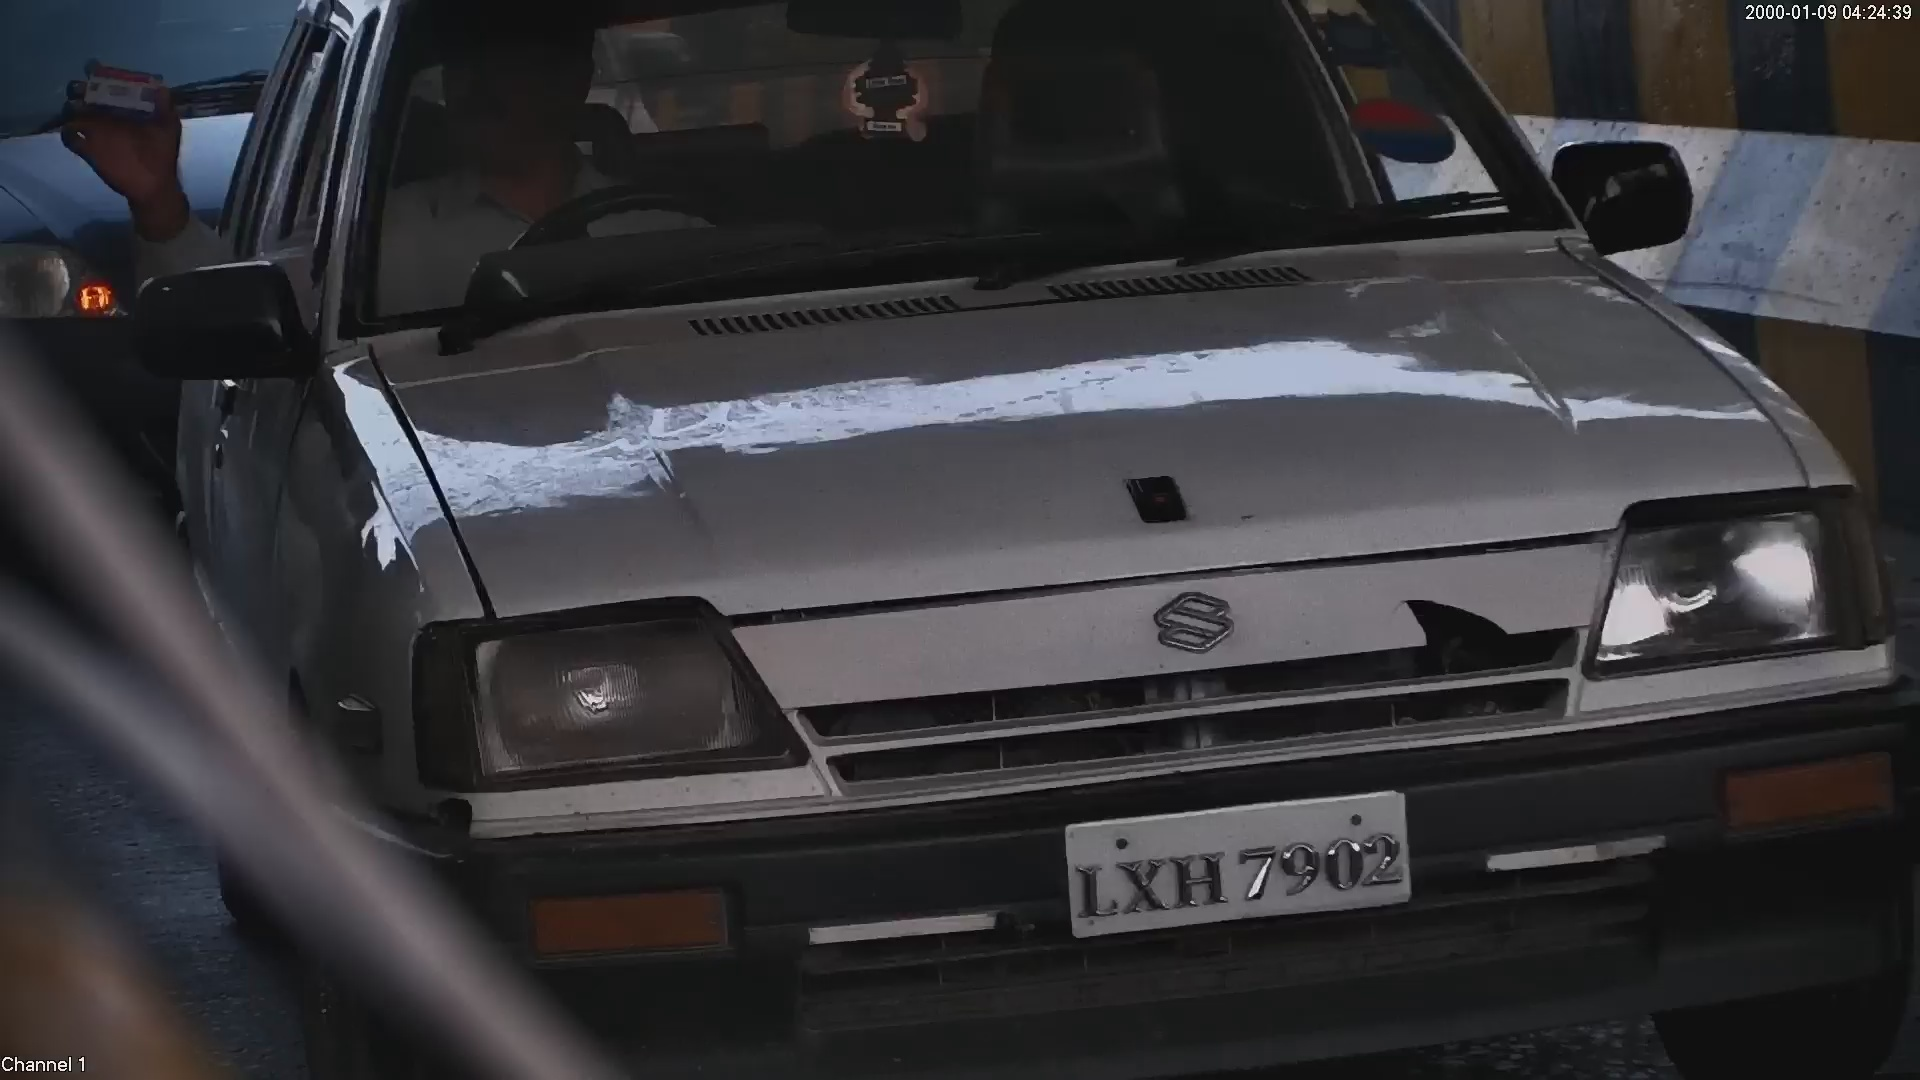Number_Plate: (1050, 783, 1423, 938)
Undefined: (426, 601, 765, 766), (1597, 509, 1869, 651), (515, 886, 734, 955), (1147, 590, 1243, 664)
